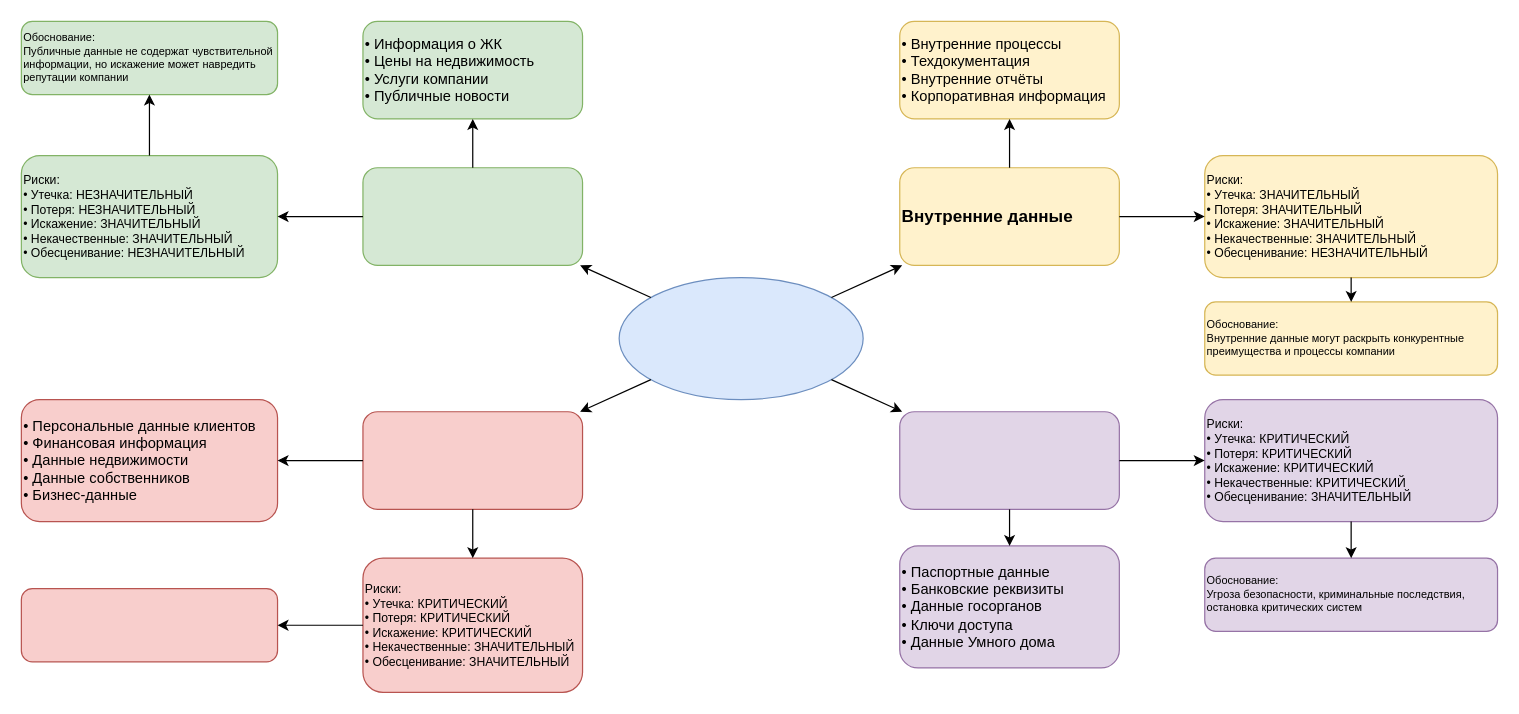
Some shapes in this 1519 by 714 pixel diagram are drawn without their labels. The box of each missing label's shape, as (x1, y1, x2, y2) in pixels:
Безопасность данных PropDevelopment: (618, 276, 863, 400)
Конфиденциальные данные: (362, 411, 583, 509)
Обоснование: Нарушение ФЗ-152, штрафы, репутационные потери, финансовые убытки: (20, 587, 278, 662)
Публичные данные: (362, 167, 583, 265)
Секретные данные: (899, 411, 1119, 509)
